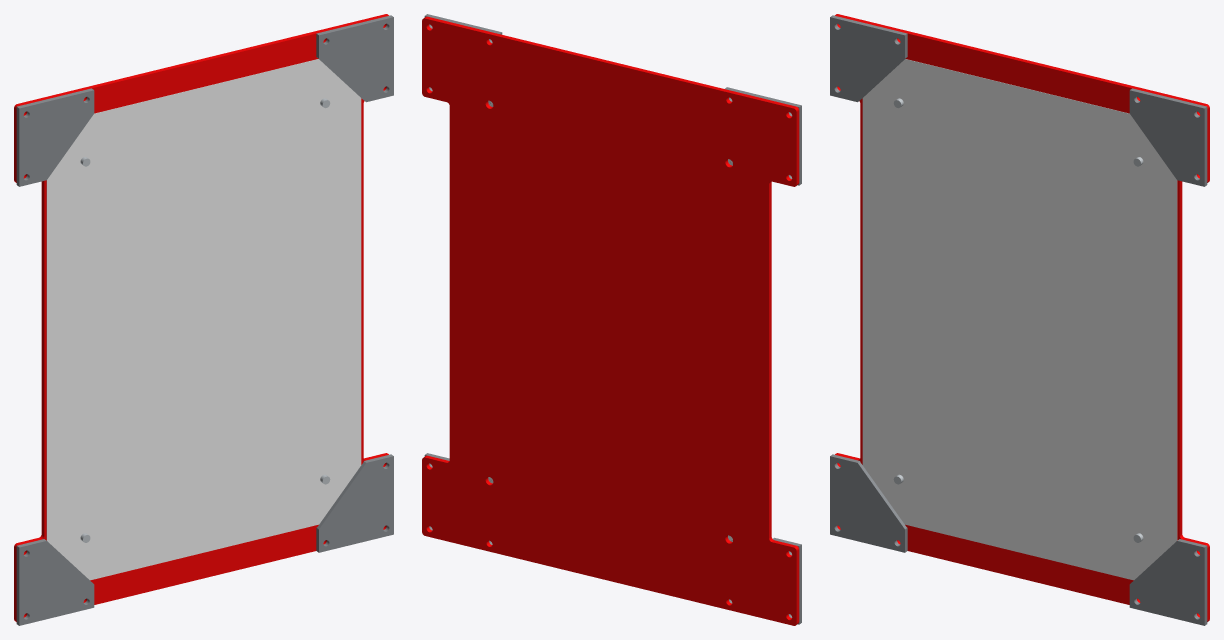
The model's file is Feille.gltf.
The picture shows the model from 3 angles, left to right: view 1: azimuth 30°, elevation 25°; view 2: azimuth 150°, elevation 25°; view 3: azimuth 330°, elevation 25°; orthographic projection.
Parts seen in each view (by area): view 1: Part 1 (×3), Part 4, Part 2, Part 3; view 2: Part 1; view 3: Part 1 (×3), Part 3, Part 2, Part 4.
Boxes of the visible parts, bbox=[...] form: Part 1 (×3): bbox=[14, 14, 388, 625]; Part 4: bbox=[16, 88, 94, 186]; Part 2: bbox=[316, 454, 393, 552]; Part 3: bbox=[316, 15, 393, 102]; Part 1: bbox=[422, 16, 799, 625]; Part 1 (×3): bbox=[830, 14, 1209, 621]; Part 3: bbox=[1129, 88, 1207, 186]; Part 2: bbox=[1129, 539, 1207, 625]; Part 4: bbox=[830, 15, 907, 102].
Bounding box in the file's own units: 0.25 × 0.33 × 0.006.
